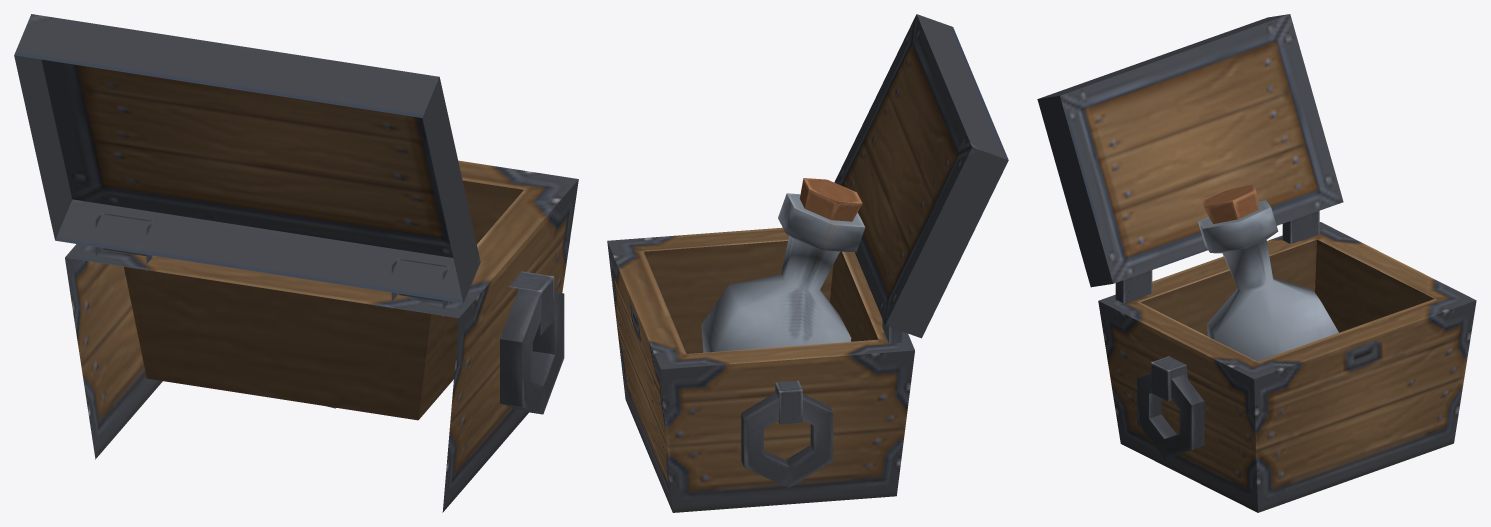
Rendered from wood_chest.FBX.
3 views of the same model, side by side, from view 1: azimuth 30°, elevation 25°; view 2: azimuth 150°, elevation 25°; view 3: azimuth 270°, elevation 25° (orthographic). The views are drawn at different scales.
Visible parts, largest first — view 1: Object001; view 2: Object001; view 3: Object001.
Part boxes in pixels (x1=…): Object001: x1=14, y1=14, x2=578, y2=512; Object001: x1=607, y1=14, x2=1008, y2=512; Object001: x1=1037, y1=14, x2=1476, y2=512.
Bounding box in the file's own units: 29.78 × 24.61 × 29.49.
